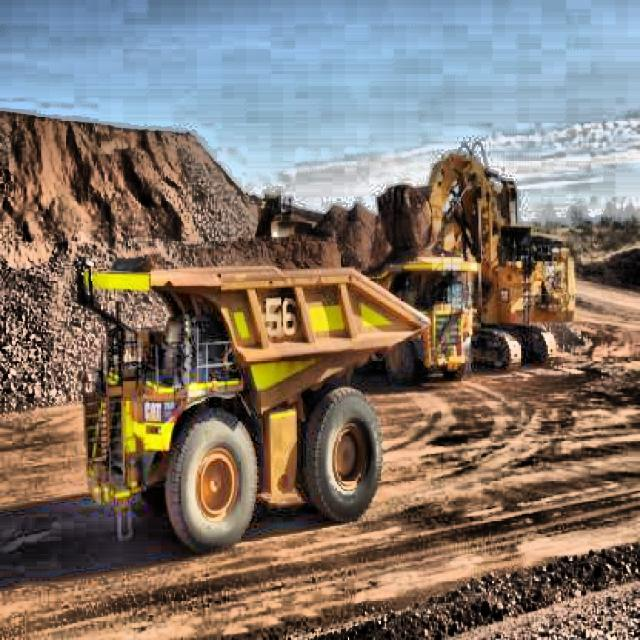bull_dozer/loader/grader: (256, 180, 316, 246)
dump_truck: (65, 235, 397, 546), (383, 249, 474, 396)
